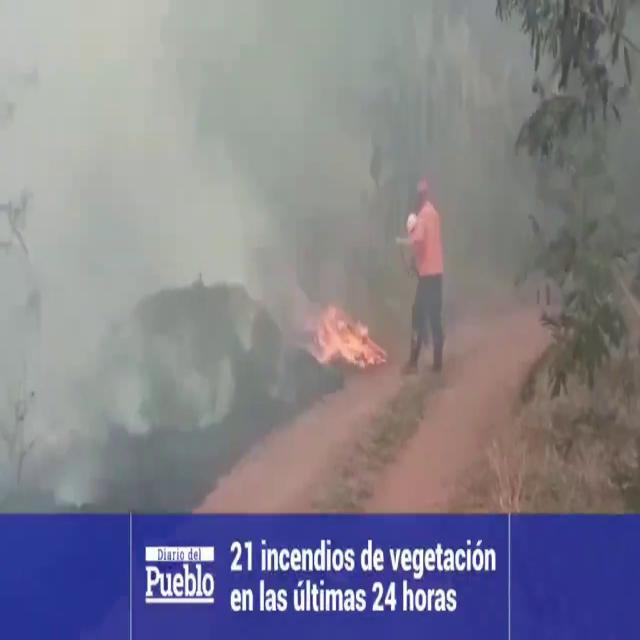Fire: (310, 292, 384, 375)
Smoke: (2, 0, 550, 504)
